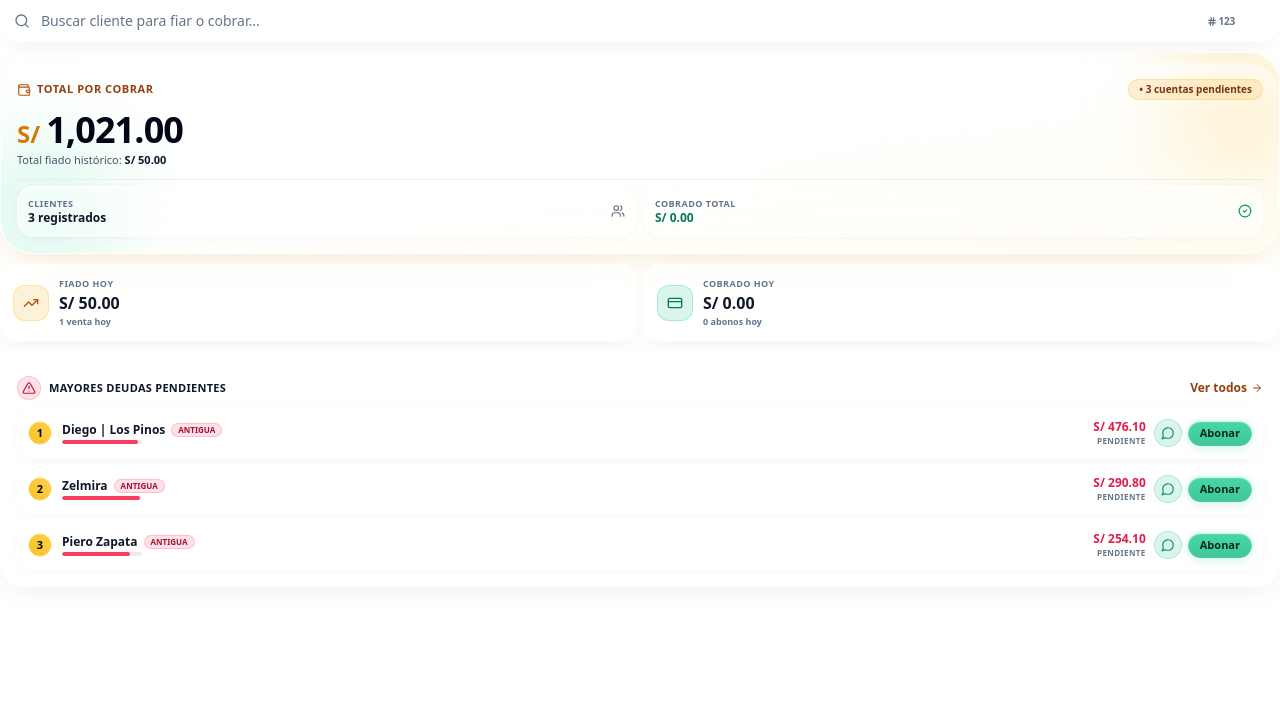
Test case: HomePage Dashboard Component (Strict TDD) › Mayores Deudas Ranking › lists top debtors ordered by highest pending balance with direct Abonar button
The width and height of the screenshot is (1280, 720).
Expected: the text "Diego | Los Pinos" is shown, left=62, top=422, right=165, bottom=438
Expected: the text "Zelmira" is shown, left=62, top=478, right=108, bottom=494
What coordinates should you click on to do the following:
click the button "Abonar" next to "476.10"
I would click on:
 (1220, 433)
Its box is left=1188, top=420, right=1252, bottom=446.
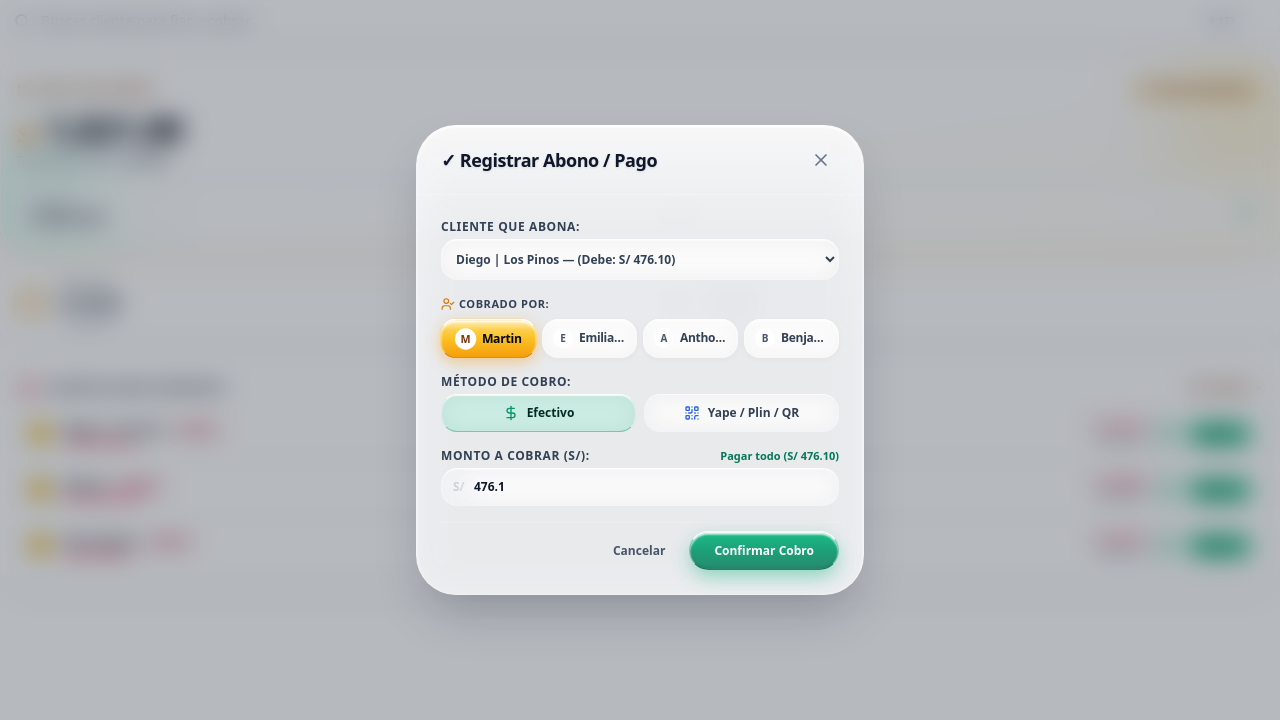
Expected: the dialog is shown, left=416, top=125, right=864, bottom=595
Expected: the text "✓ Registrar Abono / Pago" is shown, left=441, top=146, right=657, bottom=174
